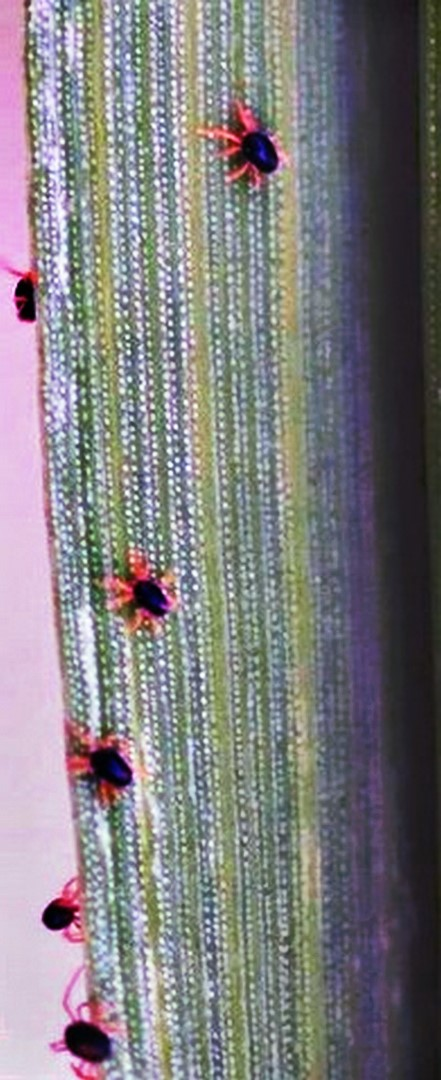Wheat Red Spider: (187, 96, 305, 206)
